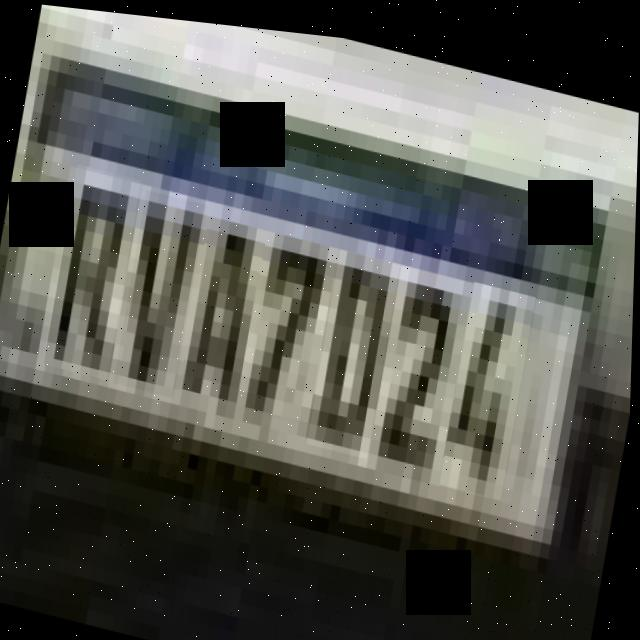4: (442, 269, 538, 494)
7: (243, 234, 328, 419)
A: (179, 210, 268, 414)
D: (309, 239, 402, 453)
R: (45, 160, 144, 380)
V: (115, 184, 208, 396)
